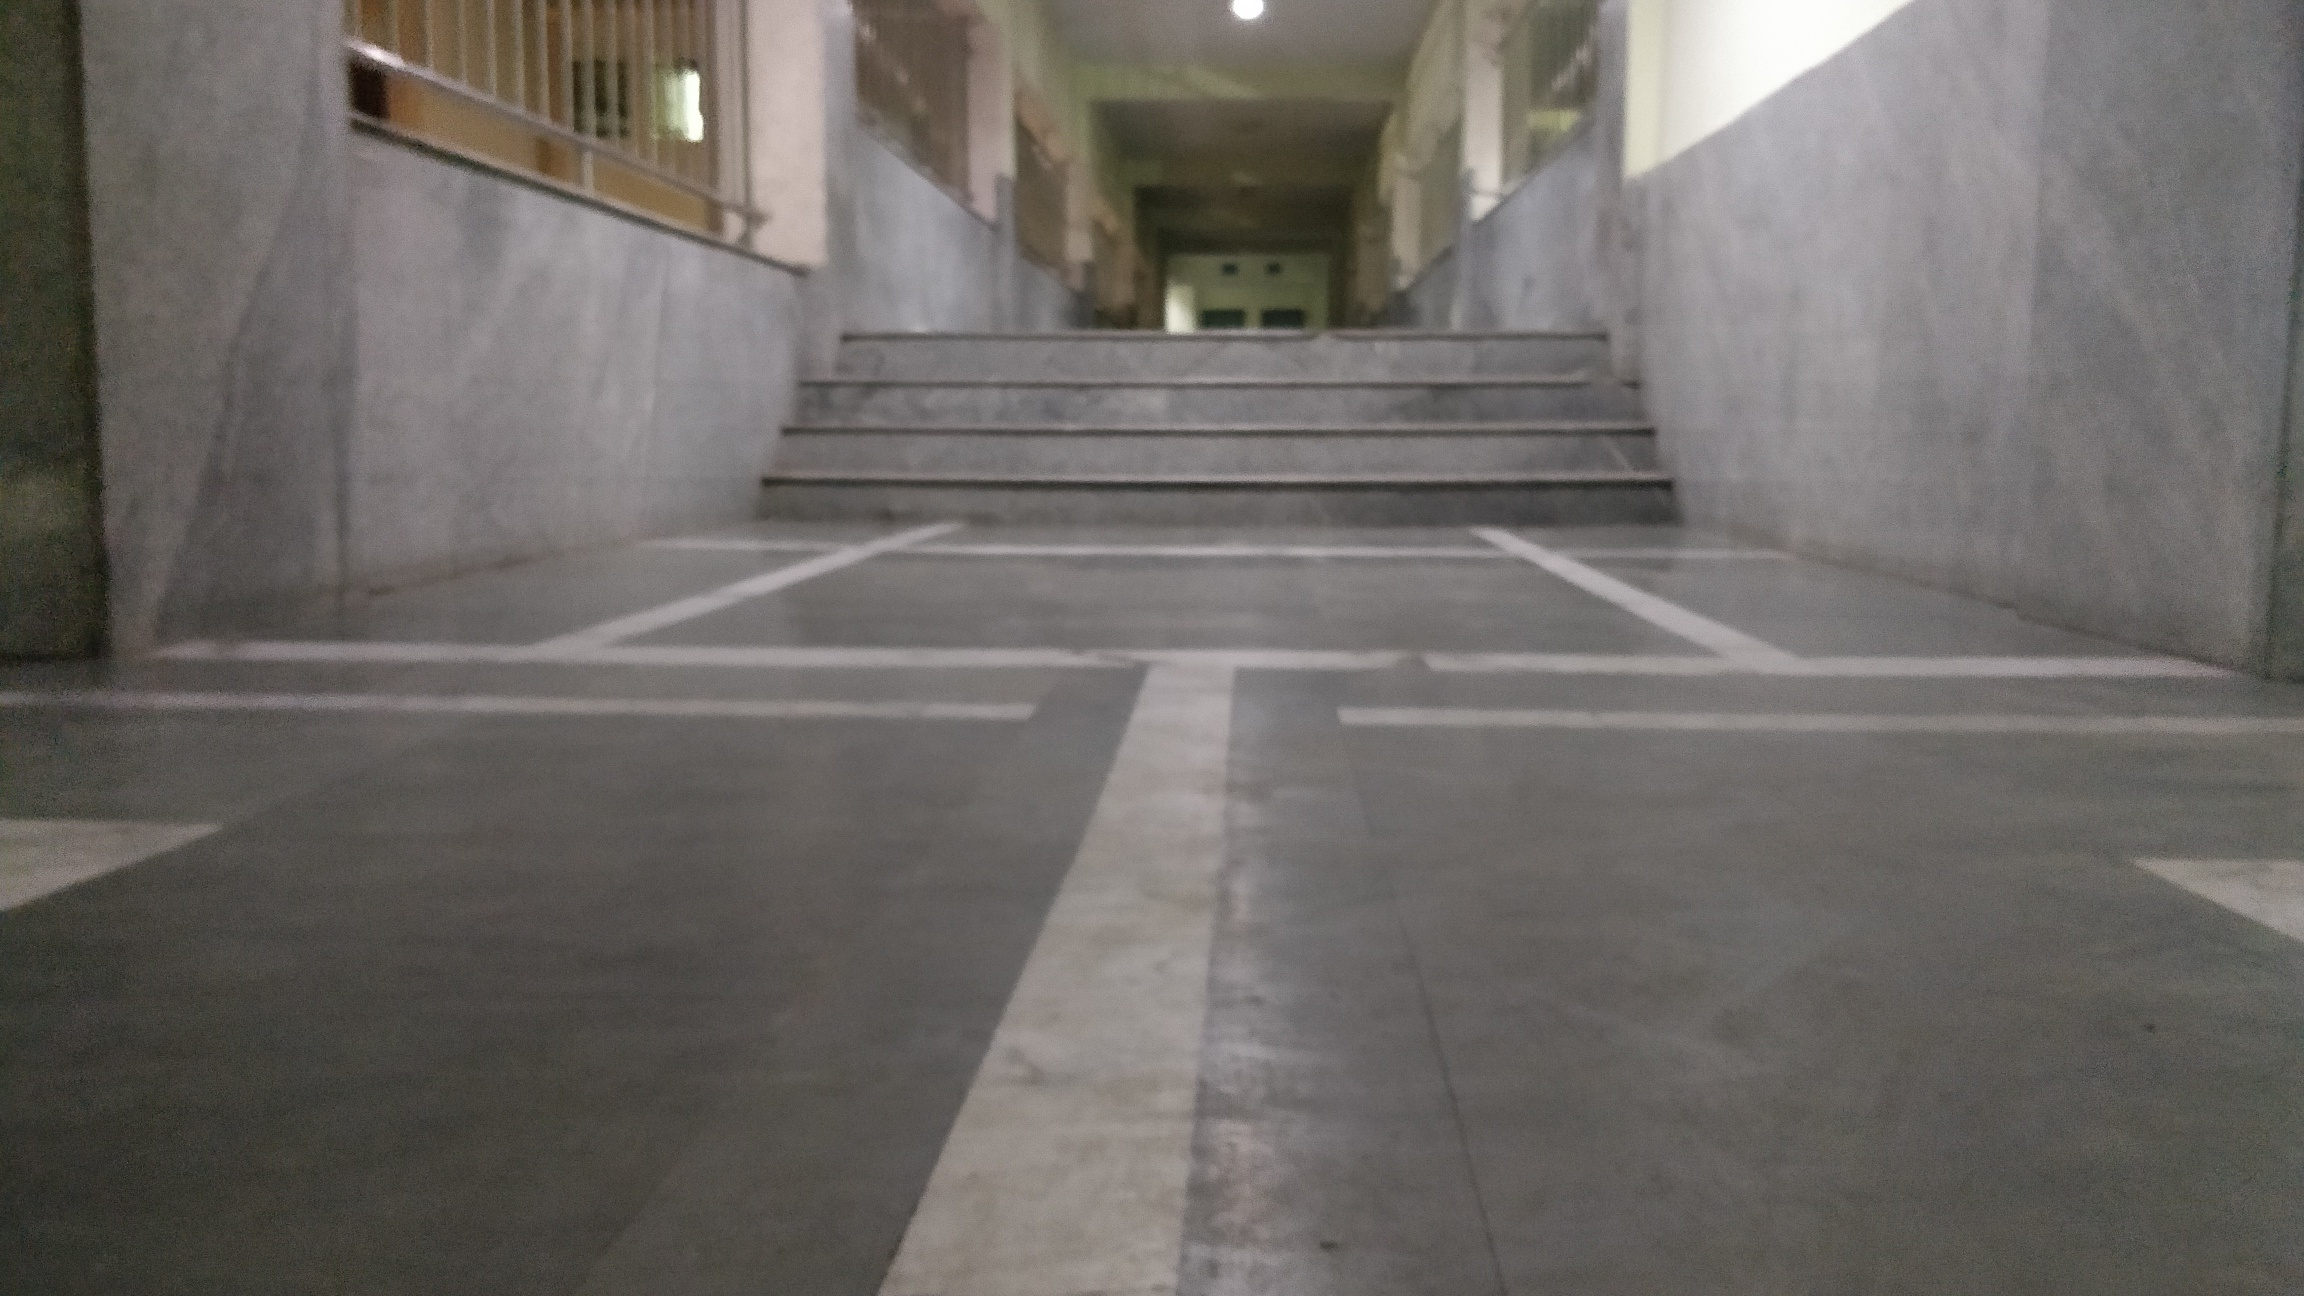stairs_up: (748, 321, 1666, 516)
